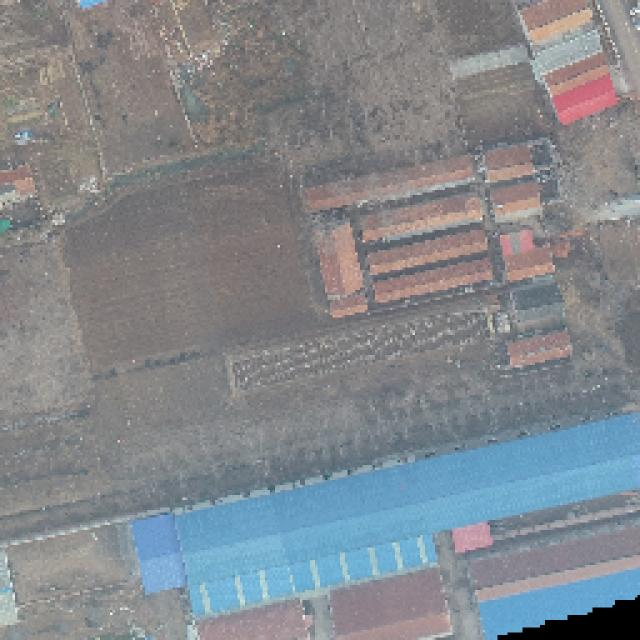Batiment: (307, 155, 475, 212), (362, 196, 480, 242), (314, 222, 368, 317), (375, 261, 492, 303), (369, 233, 485, 274), (552, 74, 618, 124), (521, 0, 588, 43), (535, 31, 602, 74), (452, 49, 528, 78), (508, 332, 568, 367), (546, 53, 606, 87), (491, 182, 540, 222), (485, 145, 534, 183), (504, 249, 552, 282), (452, 522, 492, 553)
